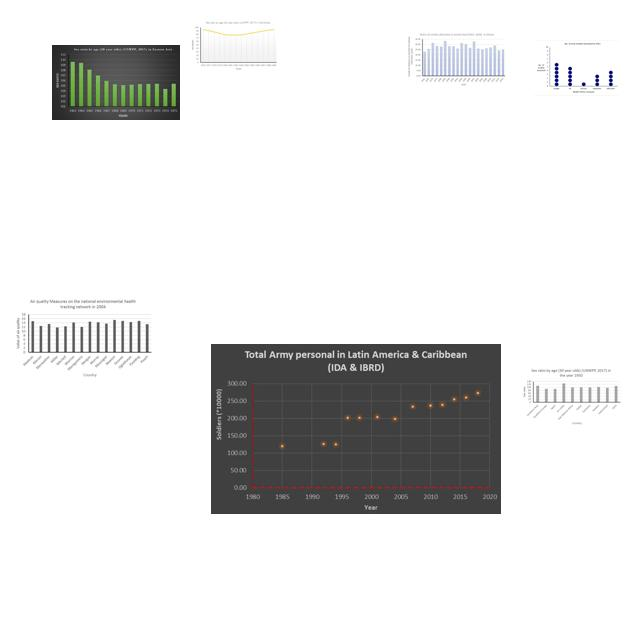Graph: (211, 344, 501, 514), (12, 297, 155, 379), (52, 45, 180, 120), (520, 367, 622, 427), (407, 31, 507, 87), (534, 40, 619, 96), (189, 19, 278, 71)
